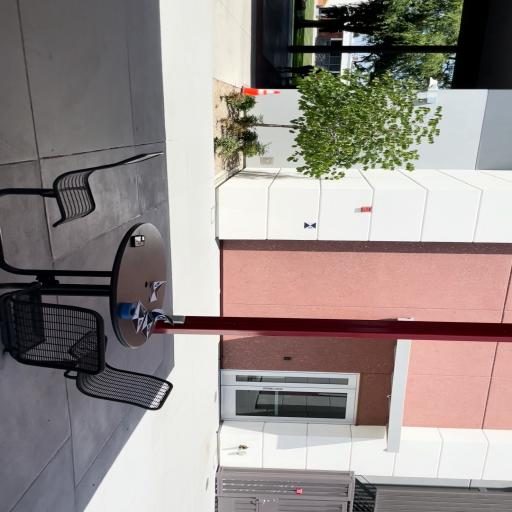target6: (304, 222, 316, 229)
